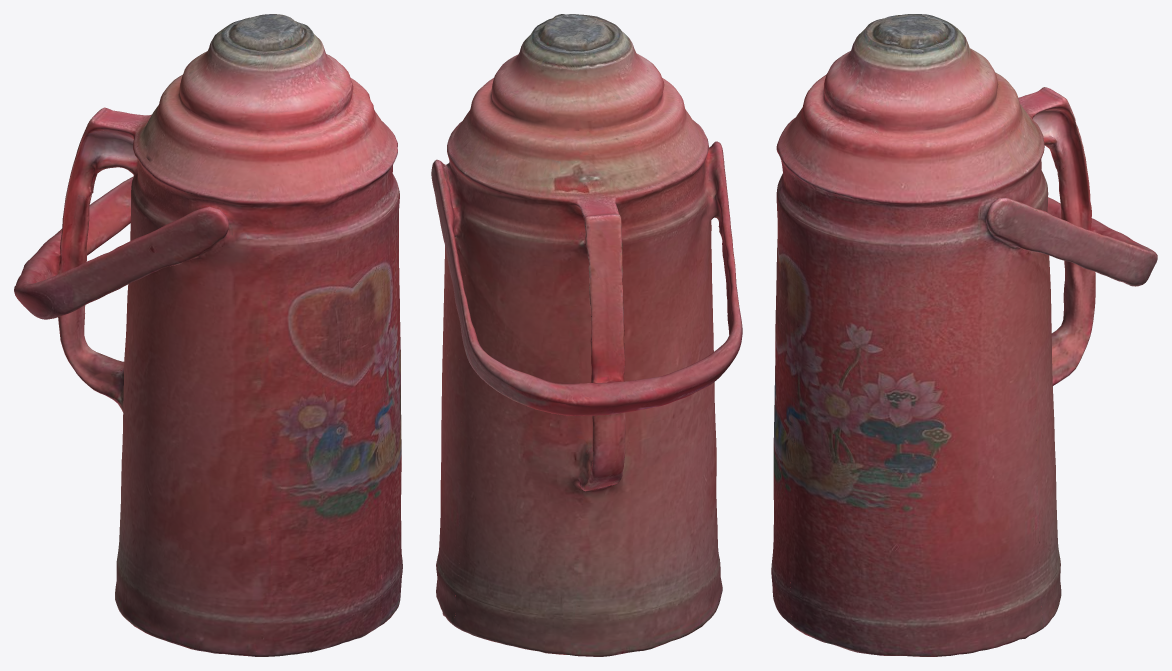
The model's file is thermos.glb.
The picture shows the model from 3 angles, left to right: view 1: azimuth 30°, elevation 25°; view 2: azimuth 150°, elevation 25°; view 3: azimuth 270°, elevation 25°; orthographic projection.
Parts seen in each view (by area): view 1: Object_2; view 2: Object_2; view 3: Object_2.
Boxes of the visible parts, x1,y1,x2,y2 form: Object_2: [14, 14, 402, 656]; Object_2: [431, 14, 742, 656]; Object_2: [771, 14, 1157, 656].
Size of the model in its own units: 0.2175 by 0.37 by 0.2242.
1 material, 1 textured.
